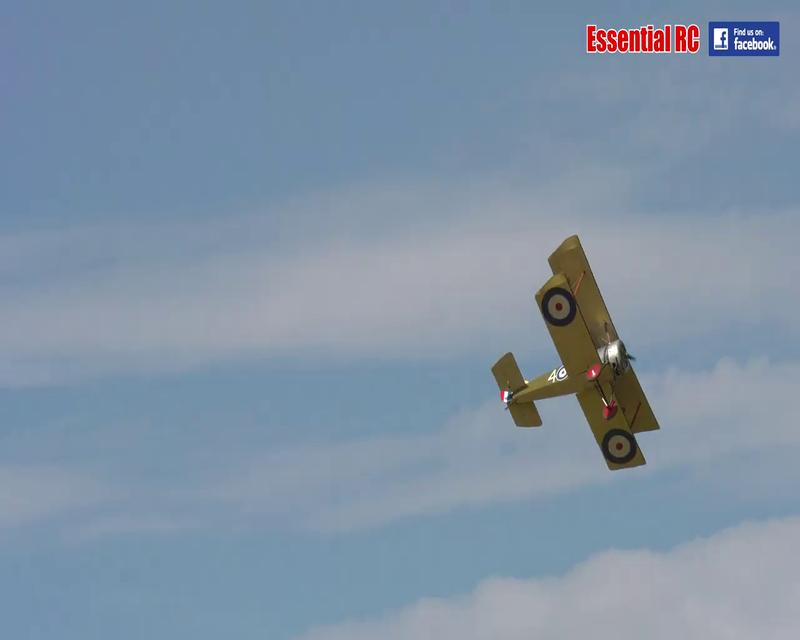UAV: (490, 233, 660, 471)
